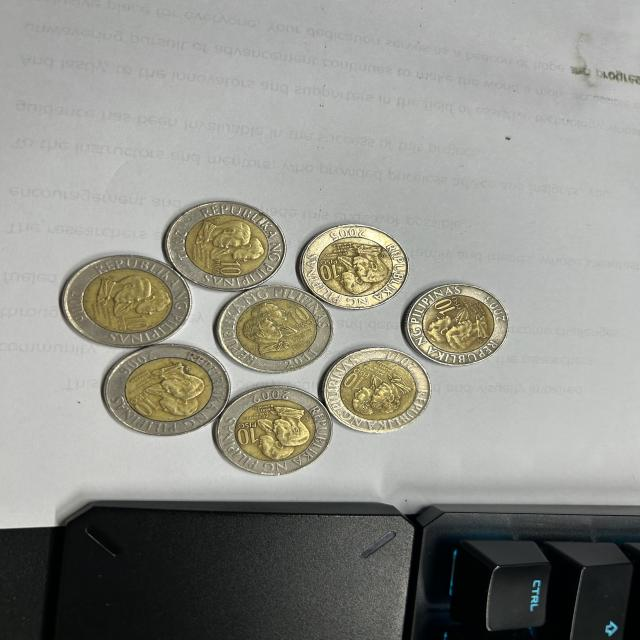10_Old_Front: (232, 427, 260, 445), (215, 260, 245, 276), (124, 314, 150, 332), (286, 308, 312, 326), (135, 398, 159, 417), (342, 372, 366, 391), (434, 297, 457, 315), (319, 264, 341, 282)
